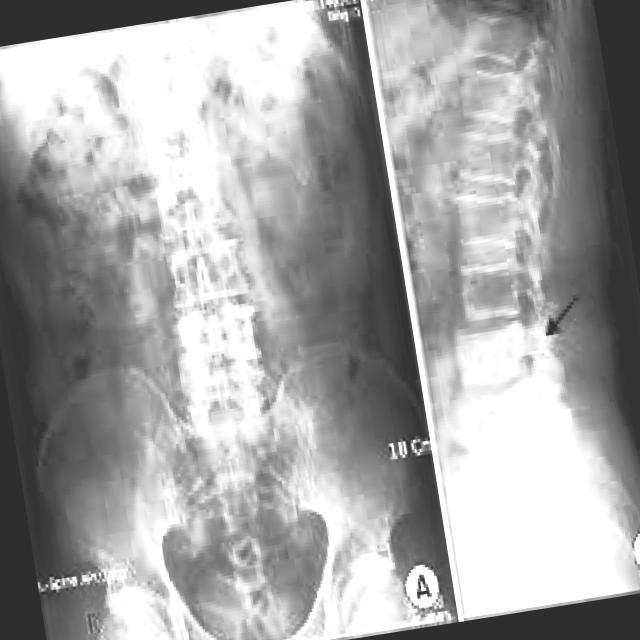Impact Fracture: (519, 314, 566, 362)
